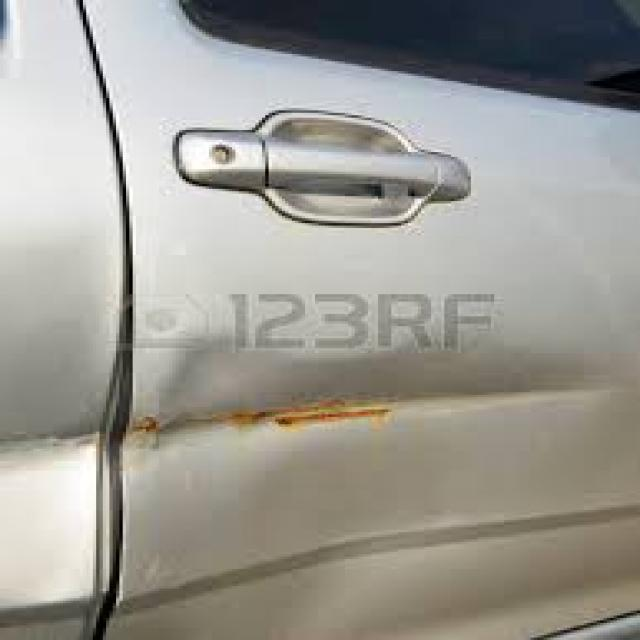minor: (40, 370, 473, 495)
